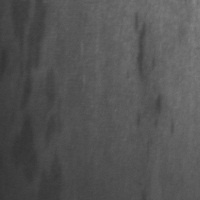inclusion: (1, 2, 43, 132), (126, 2, 166, 135), (39, 67, 69, 189)
